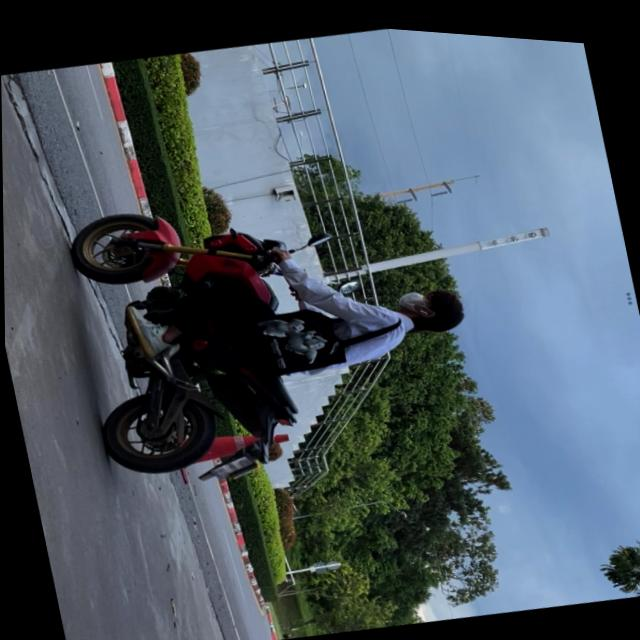seatbelt: (392, 272, 469, 336)
